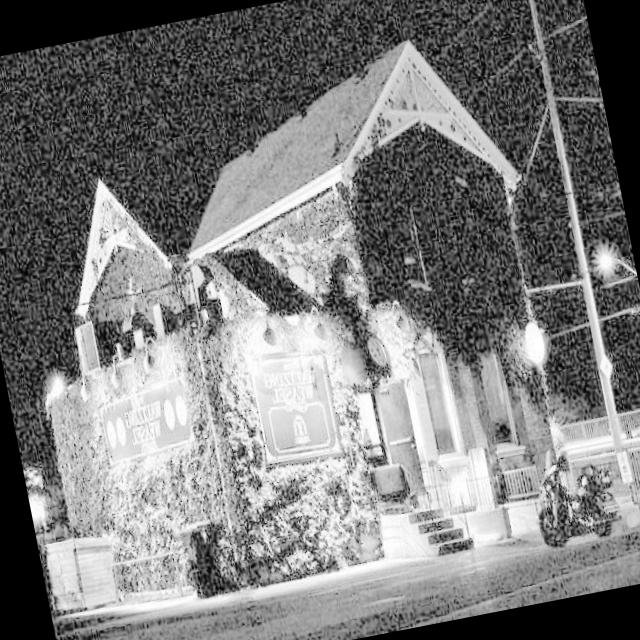Motorcycle: (520, 438, 630, 572)
